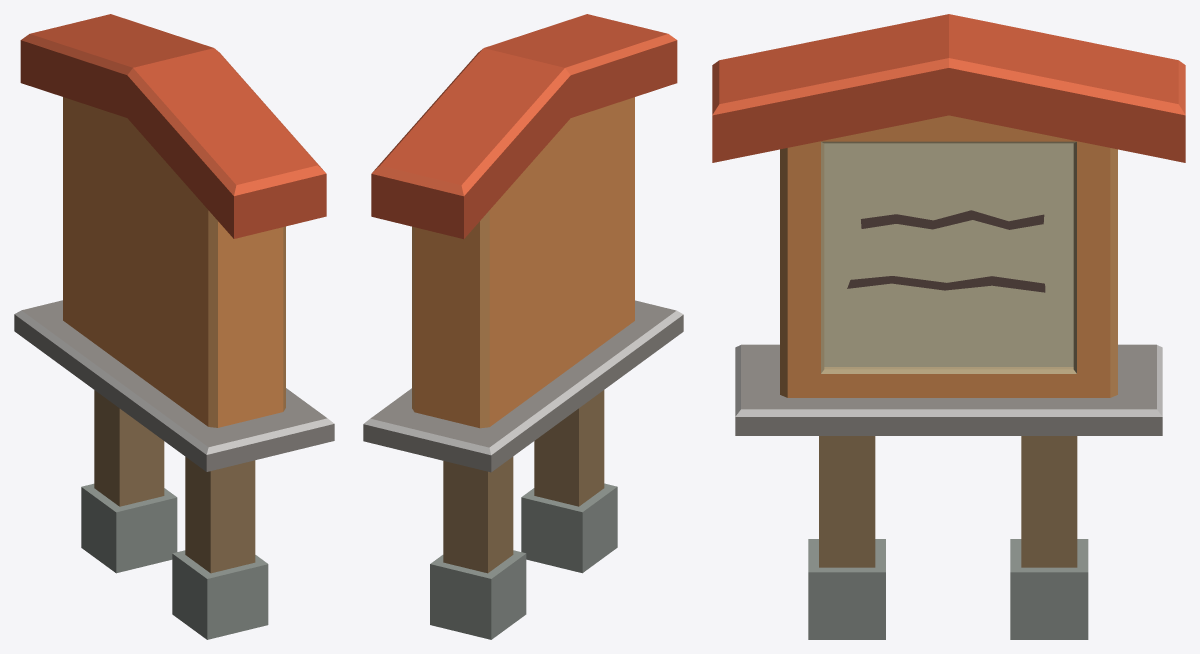
File: Sign_03.glb
3 views of the same model, side by side, from view 1: azimuth 30°, elevation 25°; view 2: azimuth 150°, elevation 25°; view 3: azimuth 270°, elevation 25° (orthographic). The views are drawn at different scales.
Parts seen in each view (by area): view 1: Sign_03; view 2: Sign_03; view 3: Sign_03.
Part boxes in pixels (x1,y1,x2,y2): Sign_03: [14, 14, 334, 639]; Sign_03: [363, 14, 683, 639]; Sign_03: [712, 14, 1185, 639].
Size of what is drawn, in the model's own units: 0.316 by 1.25 by 0.912.
Materials: 1 (1 with a texture image).
